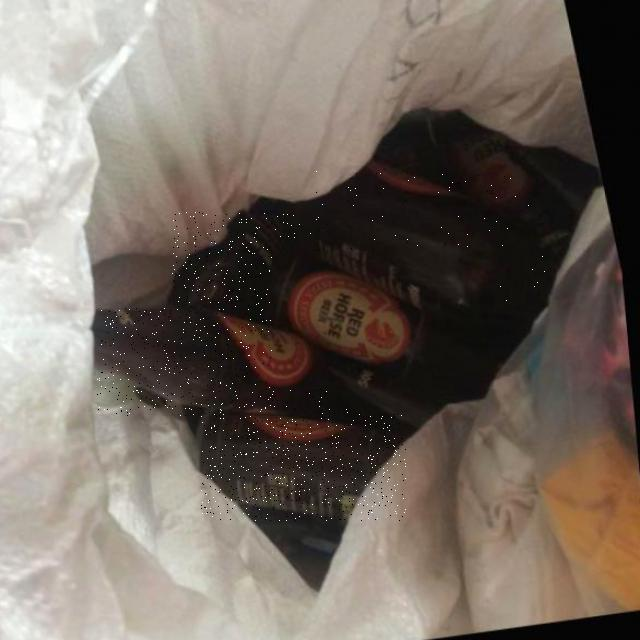glass: (305, 171, 546, 313), (273, 253, 500, 388), (98, 307, 329, 415), (201, 409, 406, 521), (173, 211, 300, 314), (137, 387, 176, 410)
